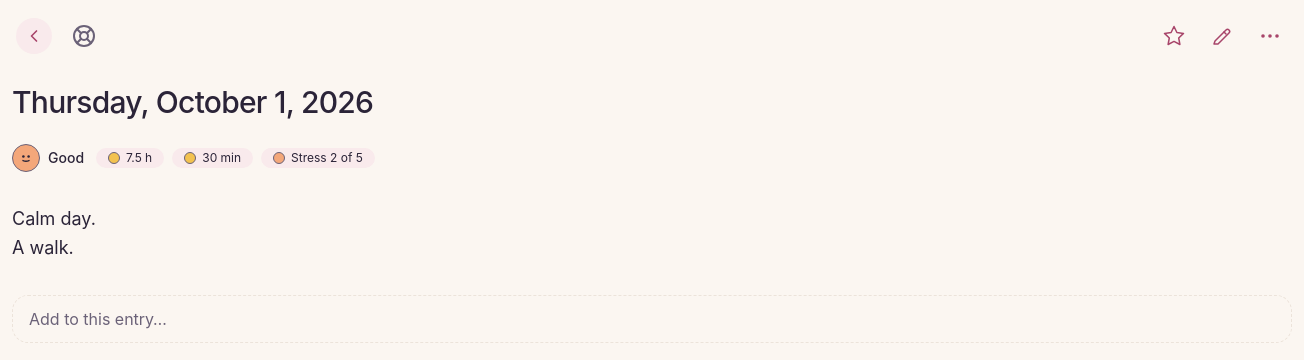
Scenario: EntryScreen: the view › ⋯ holds Delete only; Escape closes it and focus goes back to ⋯
Click the button with test id "entry-more": (1270, 36) [1248,14,1292,58]
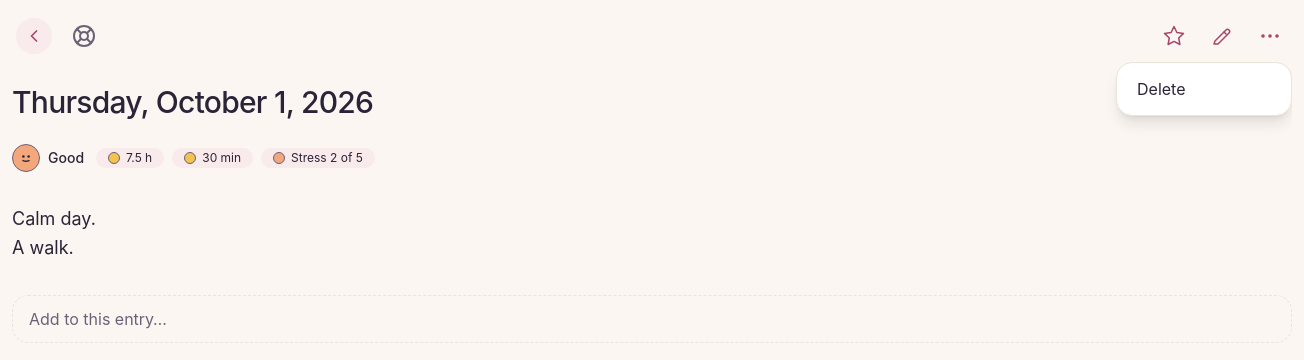
Now the button with test id "entry-menu-delete" is shown
Press Escape in the button with test id "entry-menu-delete", box [1121,67,1287,111]
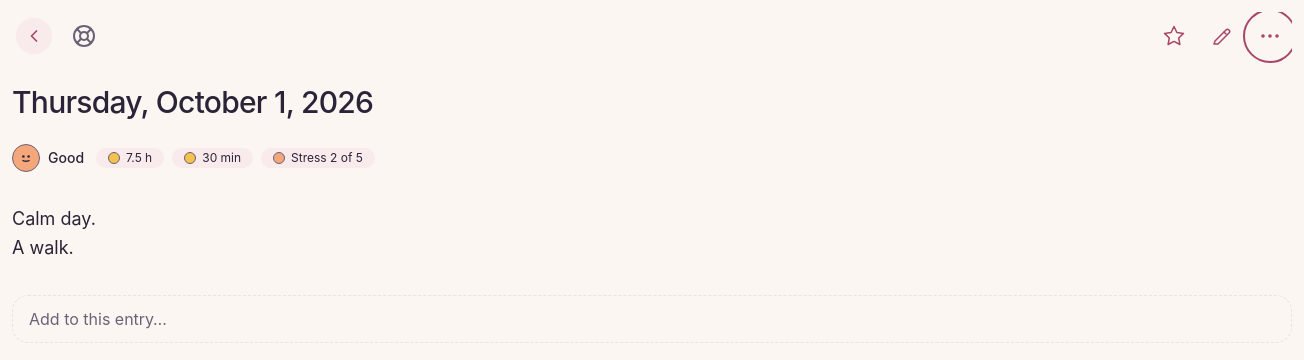
Now the button with test id "entry-more" is collapsed, box [1248,14,1292,58]
